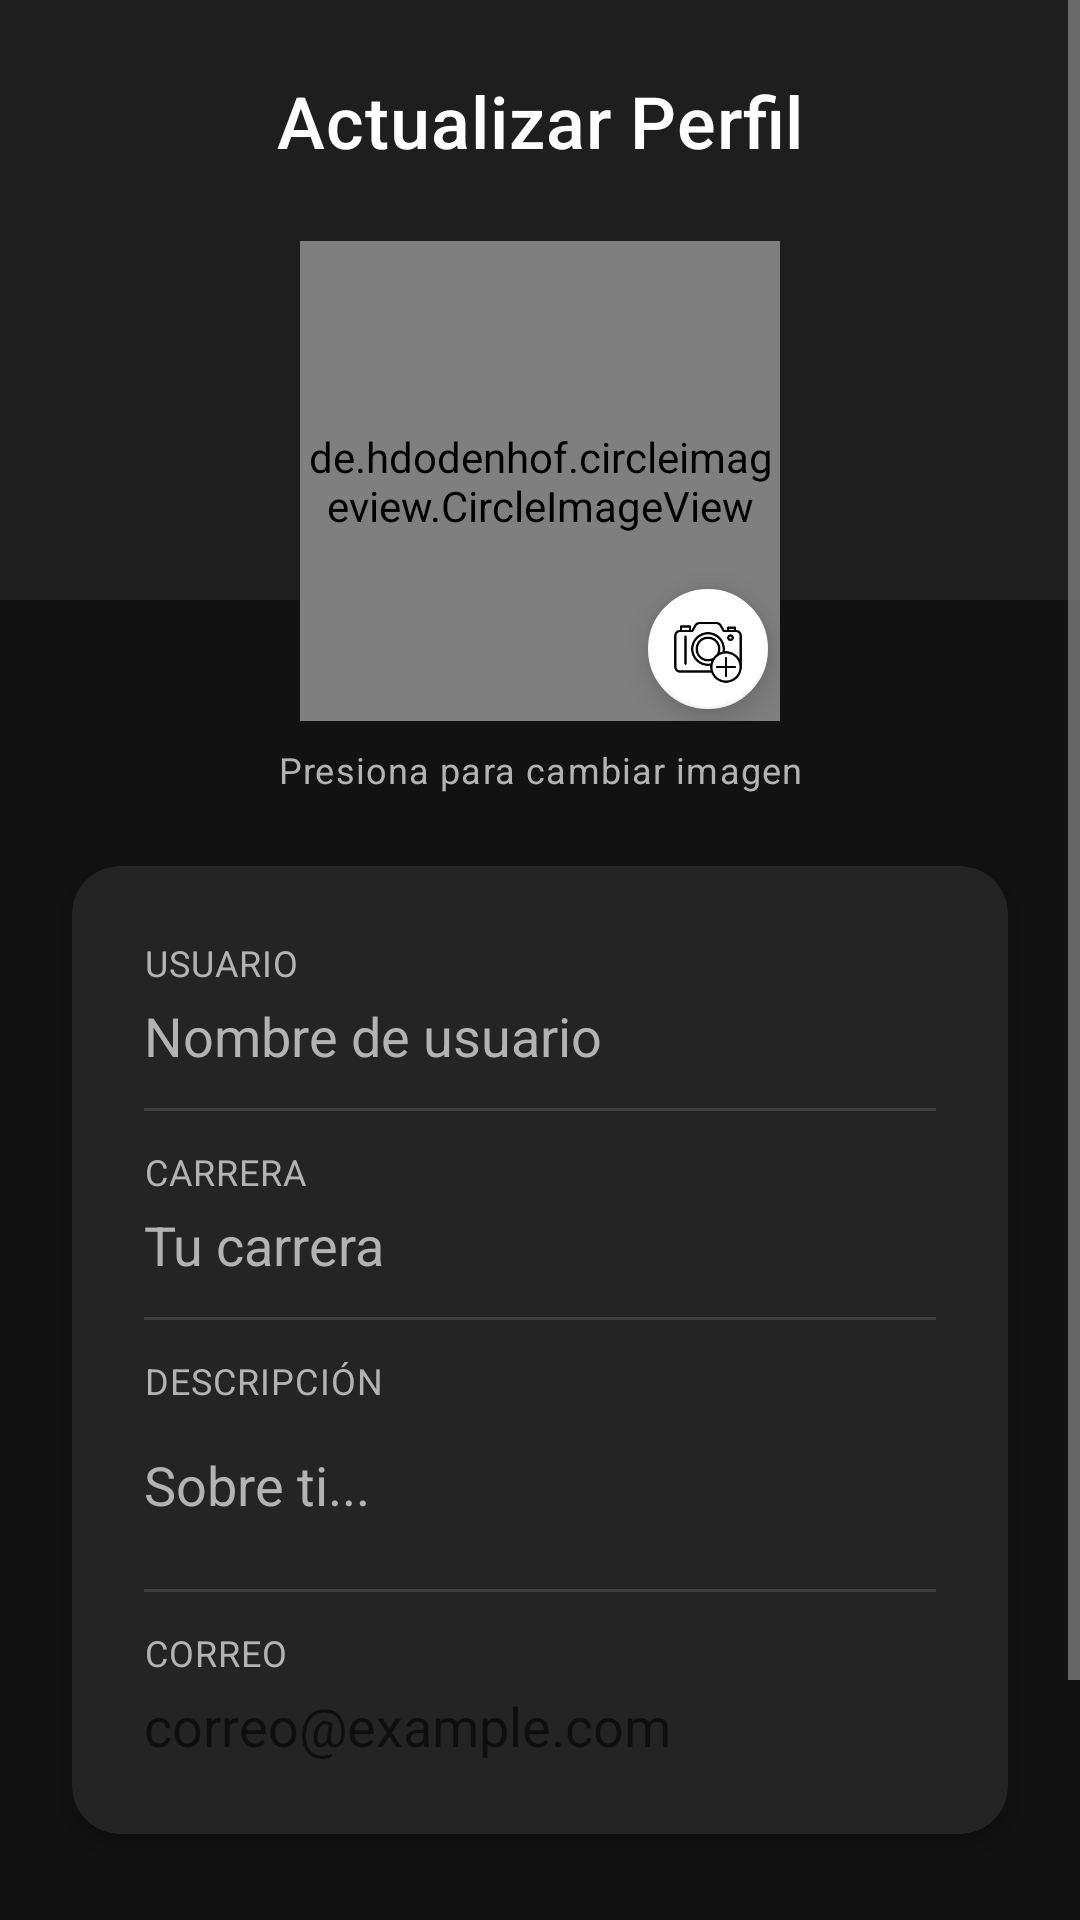

Icons on this 1080x1920 Android screen, each with its box as (x1, y1, x2, y2):
camara: (648, 589, 768, 709)
